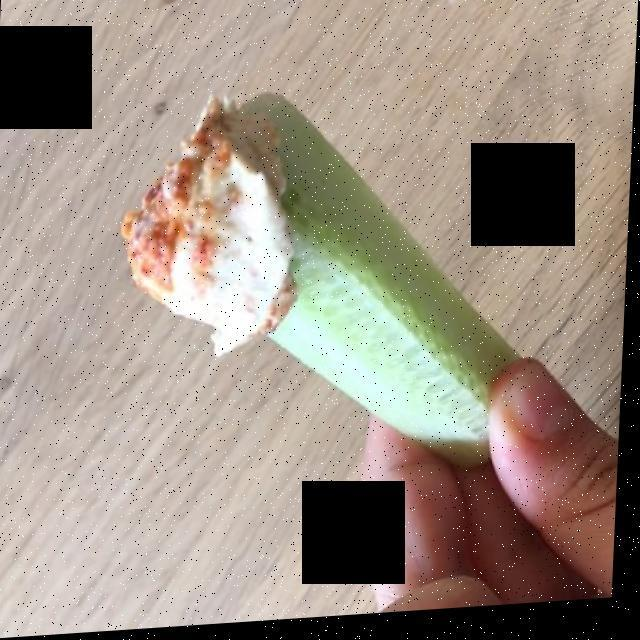cucumber: (247, 101, 512, 468)
hummus: (126, 104, 295, 354)
